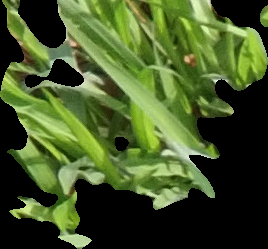grass: (1, 1, 267, 247)
